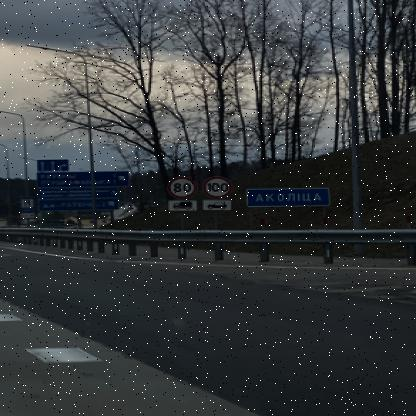speedlimit: (201, 174, 231, 197), (164, 174, 192, 197)
